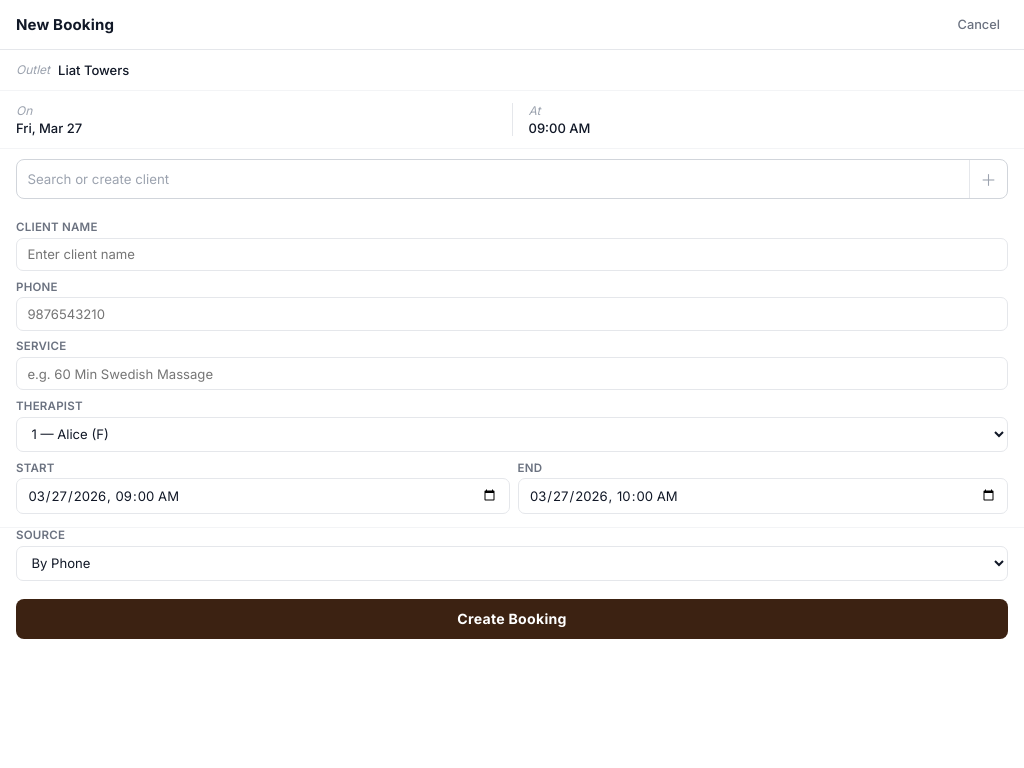
Test: BookingPanel — client name validation › shows error when client name is empty
This screenshot has width=1024, height=768.
Click the button "Create Booking" at point(512, 619), box [16,599,1008,639]
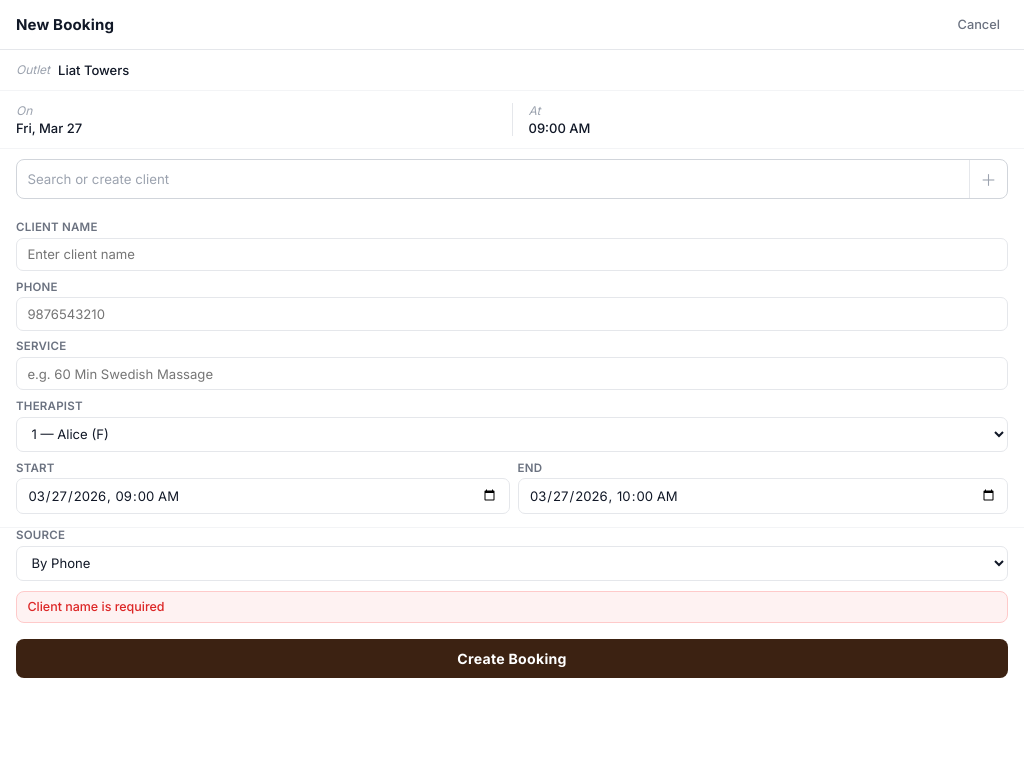
expect the text "Client name is required" is shown: met, box [16,591,1008,623]
